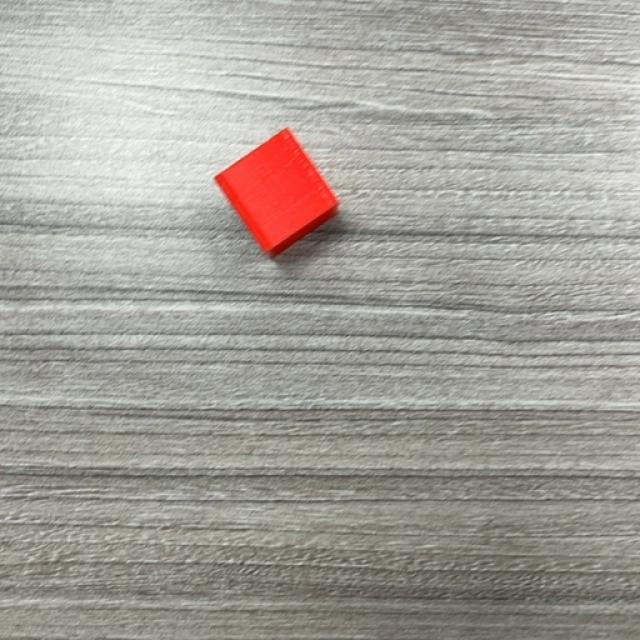Rojo: (212, 129, 341, 259)
